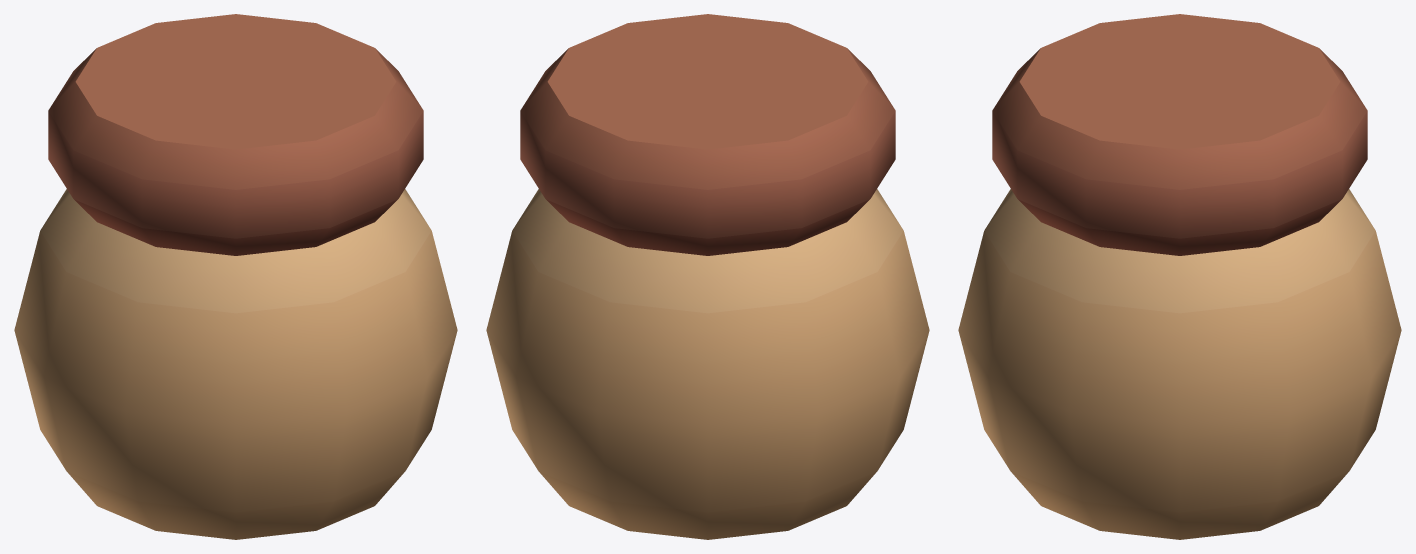
Rendered from jar_C_small.obj.
3 renders of one model, left to right at view 1: azimuth 30°, elevation 25°; view 2: azimuth 150°, elevation 25°; view 3: azimuth 270°, elevation 25°, orthographic.
Visible parts, largest first — view 1: jar_C_small_Cylinder.267; view 2: jar_C_small_Cylinder.267; view 3: jar_C_small_Cylinder.267.
Part boxes in pixels (x1,y1,x2,y2): jar_C_small_Cylinder.267: [14, 14, 457, 539]; jar_C_small_Cylinder.267: [486, 14, 929, 539]; jar_C_small_Cylinder.267: [958, 14, 1401, 539].
Size of the model in its own units: 0.566 by 0.55 by 0.566.
1 material, 1 textured.
